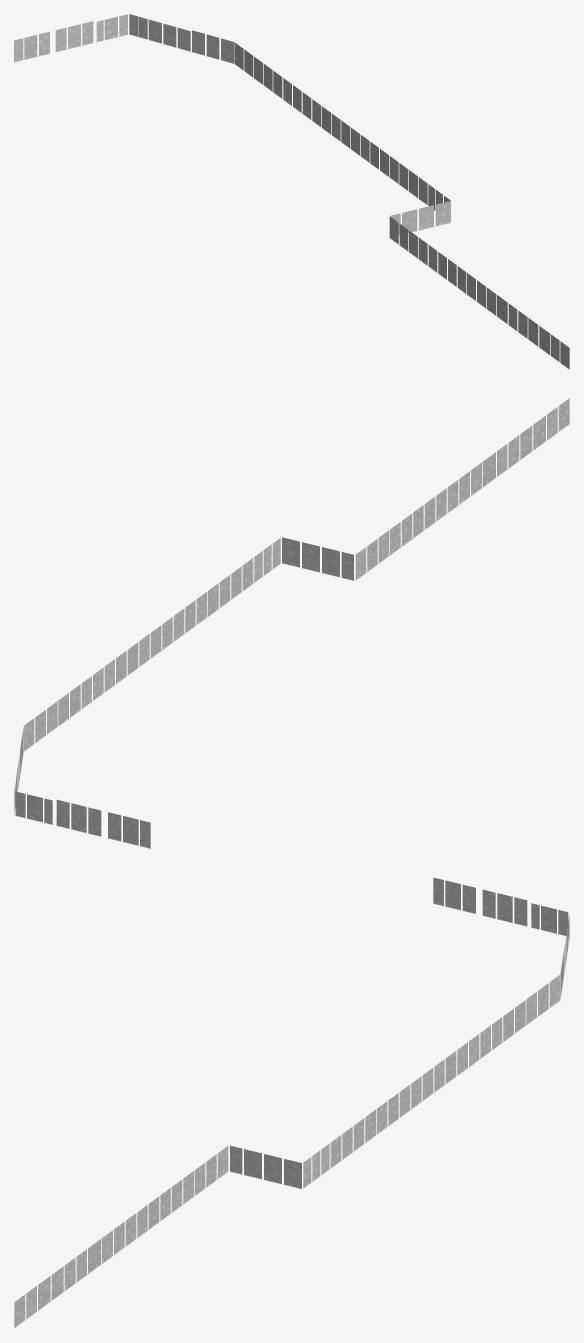
The model's file is windowsblind.fbx.
3 renders of one model, top to bottom at view 1: azimuth 30°, elevation 25°; view 2: azimuth 150°, elevation 25°; view 3: azimuth 330°, elevation 25°, orthographic. The views are drawn at different scales.
Visible parts, largest first — view 1: window_blind; view 2: window_blind; view 3: window_blind.
Boxes of the visible parts, x1,y1,x2,y2 form: window_blind: (14, 14, 569, 369); window_blind: (14, 398, 569, 848); window_blind: (14, 877, 569, 1328).
Bounding box in the file's own units: 1489 × 192 × 7147.
2 materials, 1 textured.
